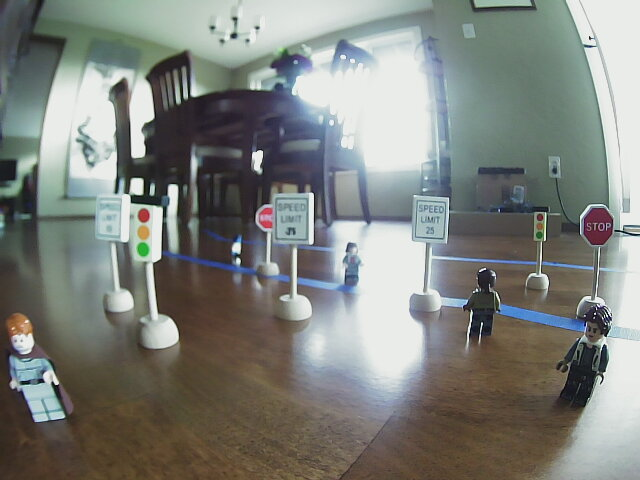SpeedLimit25: (414, 196, 449, 246)
SpeedLimit35: (273, 193, 314, 248)
SpeedLimit55: (97, 194, 123, 239)
StopSign: (578, 197, 616, 249), (255, 202, 274, 234)
TrafficLight: (130, 196, 164, 265), (530, 205, 548, 248)
person: (4, 307, 80, 430), (552, 304, 607, 413), (463, 267, 503, 338), (337, 239, 367, 292), (228, 231, 246, 269)
